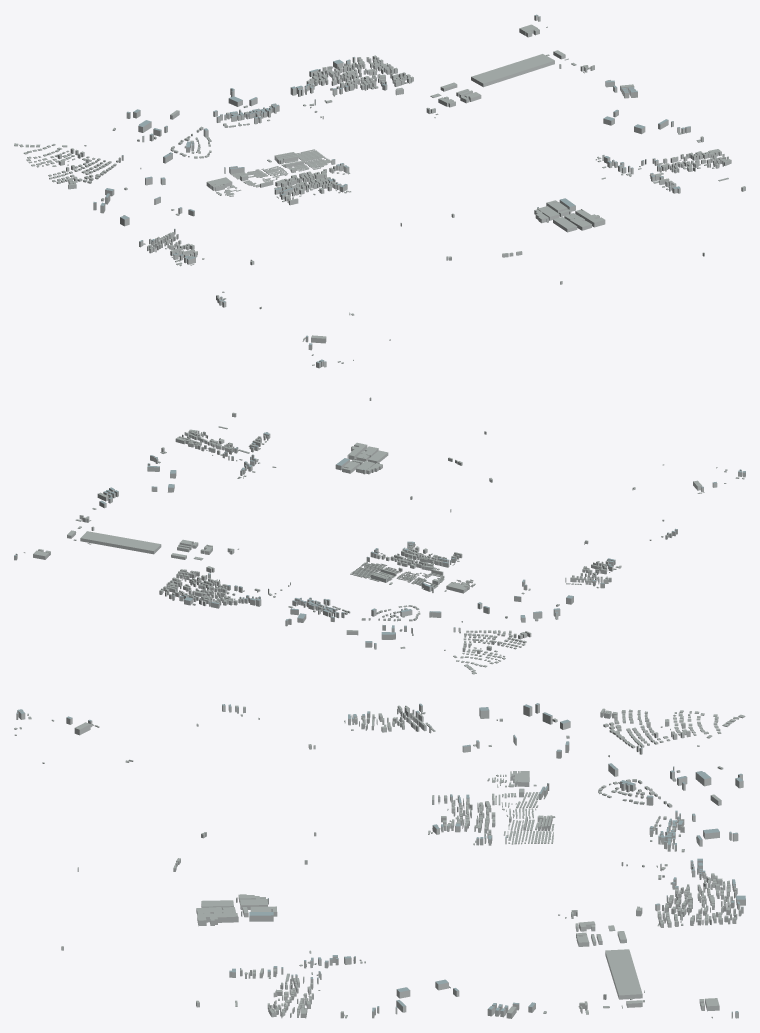
The model's file is far.glb.
3 renders of one model, top to bottom at view 1: azimuth 30°, elevation 25°; view 2: azimuth 150°, elevation 25°; view 3: azimuth 270°, elevation 25°, orthographic. The views are drawn at different scales.
Bounding box in the file's own units: 2106 × 28.25 × 2109.
